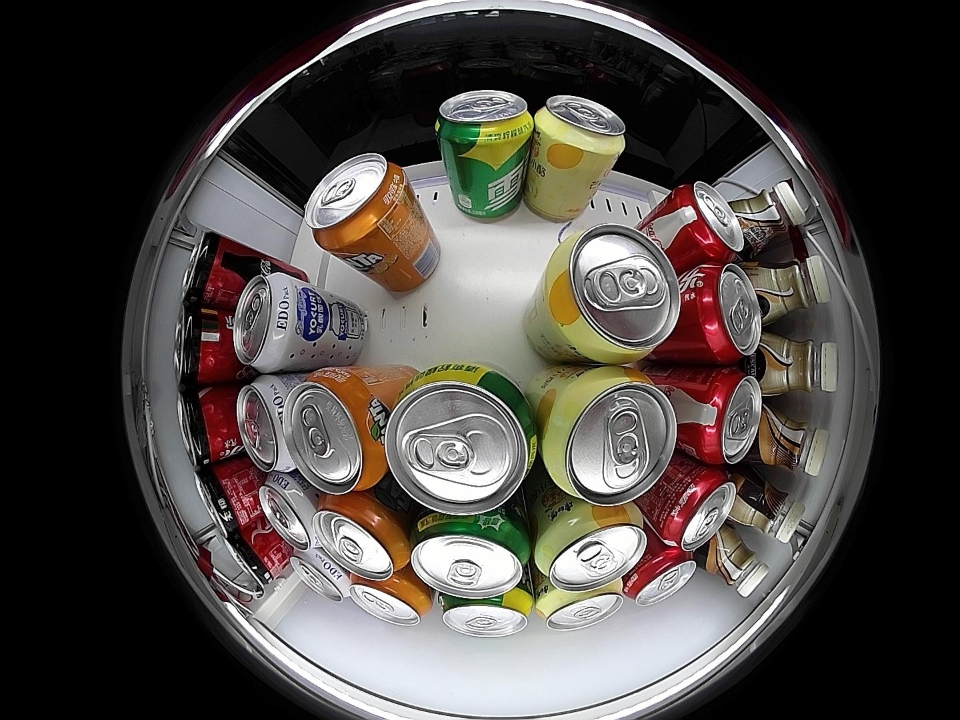fenda: (284, 370, 390, 494), (305, 152, 408, 253), (313, 494, 413, 580), (350, 573, 430, 627)
kafei: (734, 180, 808, 254), (755, 253, 832, 318), (757, 408, 829, 476), (733, 476, 806, 543), (762, 335, 839, 396), (705, 534, 770, 597)
kele: (691, 263, 763, 363), (695, 367, 763, 465), (660, 467, 738, 551), (672, 180, 745, 262), (624, 546, 697, 606)
lingdukele: (177, 385, 231, 468), (182, 232, 237, 308), (194, 466, 252, 538), (175, 304, 225, 386), (225, 529, 283, 589)
mangguoxiaolao: (542, 366, 679, 506), (546, 223, 681, 363), (535, 504, 647, 591), (536, 95, 627, 163), (537, 582, 625, 632)
rusuanjunqishui: (233, 272, 315, 373), (236, 376, 295, 471), (258, 472, 321, 551), (290, 547, 351, 603)
xuebi2: (384, 365, 537, 514), (410, 512, 530, 598), (435, 90, 534, 155), (439, 589, 534, 638)
